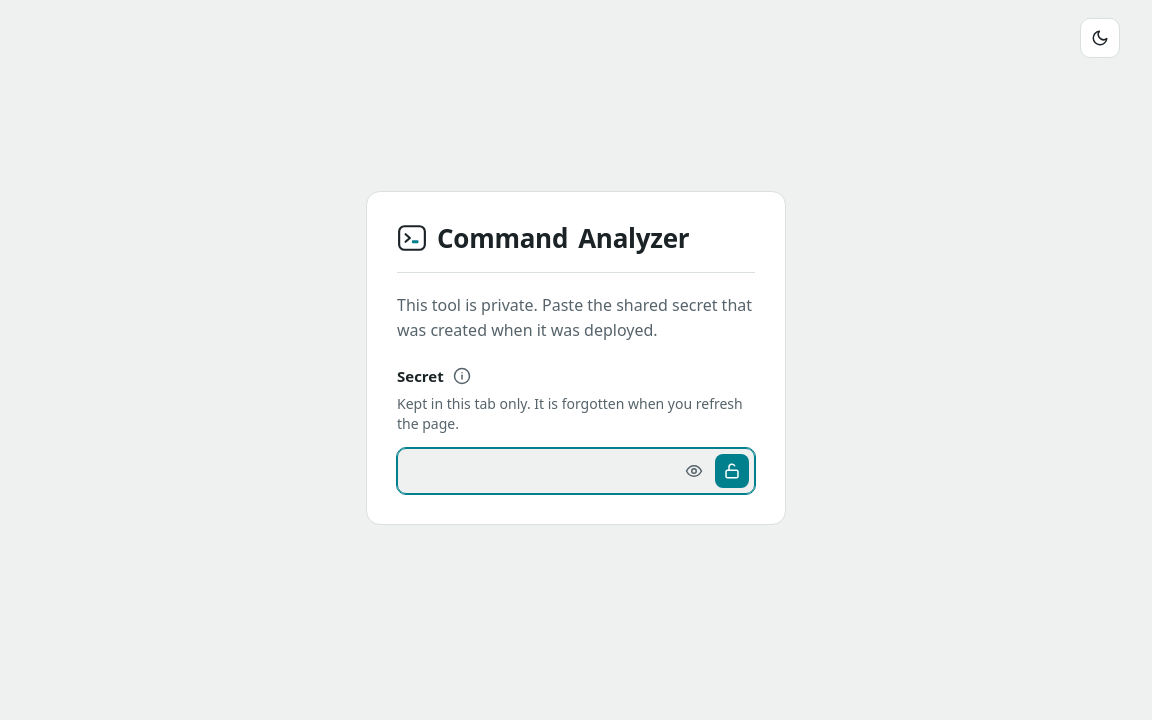
unlock › centres the unlock card with a gate layout, and drops it once unlocked
The width and height of the screenshot is (1152, 720).
Type "pw" into the password field labelled "Secret" at [576, 471], box x1=397 y1=448 x2=755 y2=494
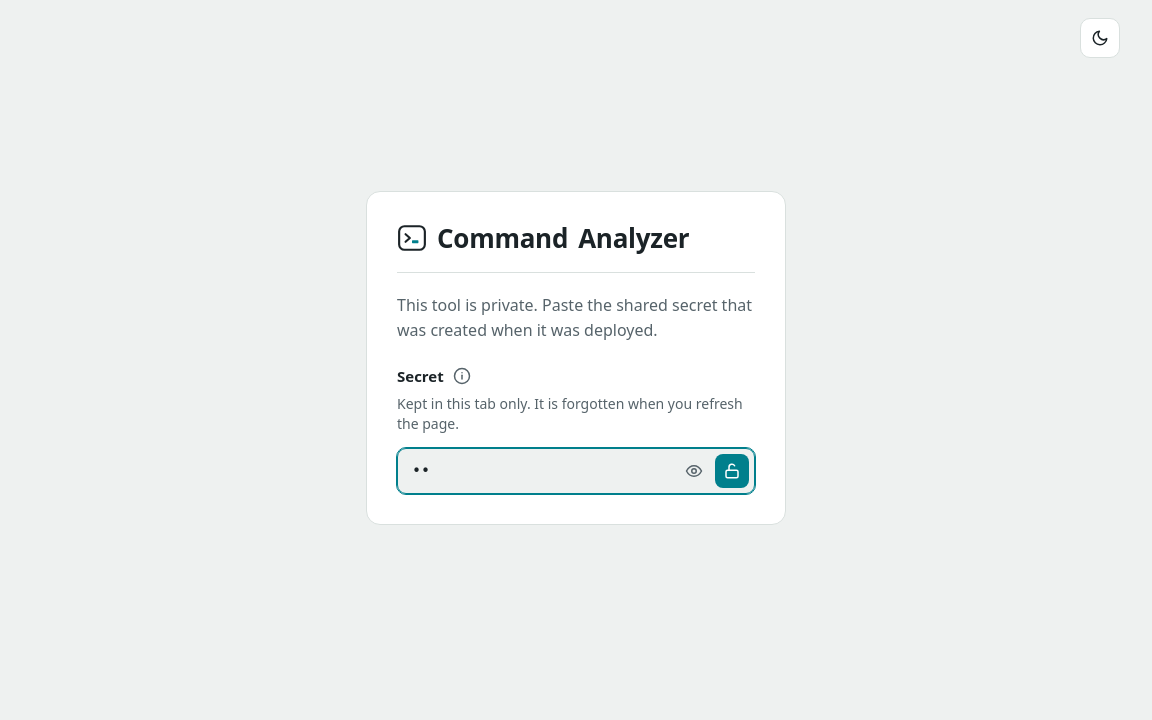
Click the button named "Unlock" at [732, 471], box x1=715 y1=454 x2=749 y2=488
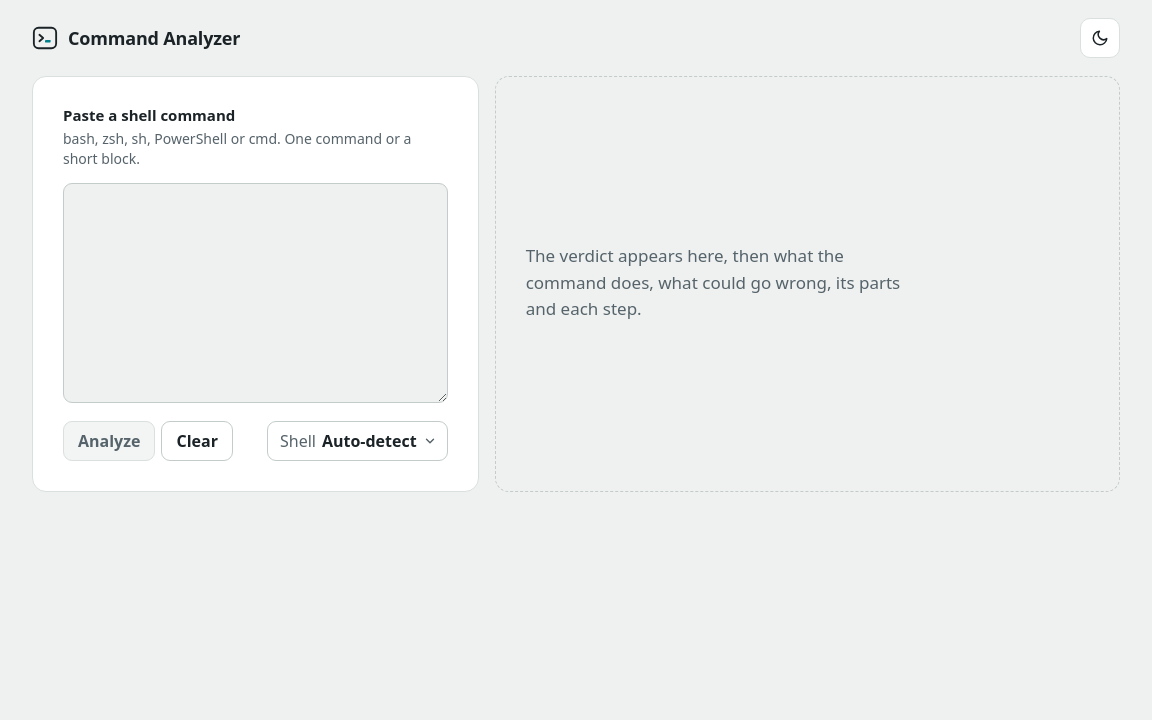
Result: the text box labelled "Paste a shell command" is shown at x1=63 y1=183 x2=448 y2=403
